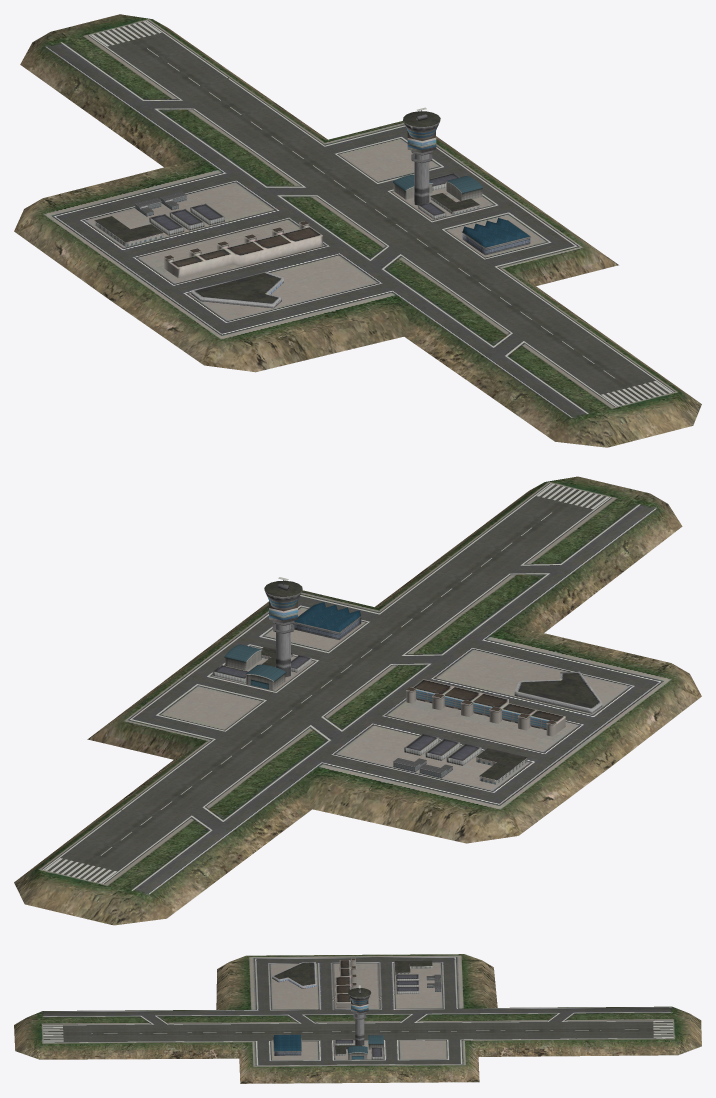
The model's file is airport.fbx.
3 views of the same model, one above another, from view 1: azimuth 30°, elevation 25°; view 2: azimuth 150°, elevation 25°; view 3: azimuth 270°, elevation 25° (orthographic). The views are drawn at different scales.
Parts seen in each view (by area): view 1: AirportRock, airportBuilding8, airportBuilding5, tower, airportBuilding6, airportBuilding4_1, airportBuilding2_1; view 2: AirportRock, airportBuilding8, airportBuilding5, tower, airportBuilding6, airportBuilding4_1, airportBuilding2, airportBuilding2_1; view 3: AirportRock, airportBuilding8, tower, airportBuilding5, airportBuilding6, airportBuilding4_1, airportBuilding2_1.
Boxes of the visible parts, x1,y1,x2,y2 form: AirportRock: (14, 14, 701, 447); airportBuilding8: (164, 221, 322, 277); airportBuilding5: (191, 271, 283, 308); tower: (403, 110, 440, 205); airportBuilding6: (461, 218, 530, 255); airportBuilding4_1: (94, 216, 163, 246); airportBuilding2_1: (445, 176, 482, 200); AirportRock: (14, 476, 701, 925); airportBuilding8: (406, 679, 565, 736); airportBuilding5: (514, 671, 602, 713); tower: (264, 580, 302, 677); airportBuilding6: (292, 602, 362, 639); airportBuilding4_1: (475, 748, 527, 784); airportBuilding2: (245, 664, 286, 690); airportBuilding2_1: (224, 644, 262, 670); AirportRock: (14, 954, 701, 1083); airportBuilding8: (335, 958, 356, 1008); tower: (348, 988, 371, 1045); airportBuilding5: (272, 962, 316, 988); airportBuilding6: (273, 1034, 301, 1055); airportBuilding4_1: (394, 960, 432, 975); airportBuilding2_1: (347, 1046, 367, 1059).
Size of the model in its own units: 95878 by 23878 by 221647.
2 materials, 2 textured.
